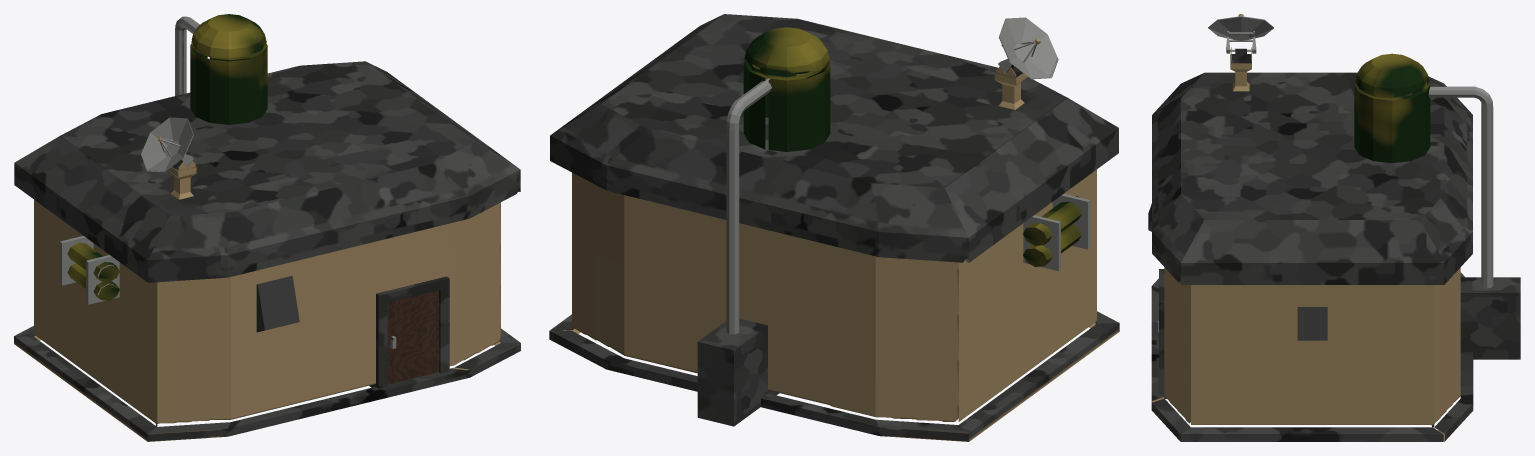
The model's file is Edificio9Map.fbx.
3 renders of one model, left to right at view 1: azimuth 30°, elevation 25°; view 2: azimuth 150°, elevation 25°; view 3: azimuth 270°, elevation 25°, orthographic. The views are drawn at different scales.
Visible parts, largest first — view 1: LOD_0; view 2: LOD_0; view 3: LOD_0.
Boxes of the visible parts, box(x1,y1,x2,y2) form: LOD_0: box(14, 14, 520, 441); LOD_0: box(549, 14, 1119, 441); LOD_0: box(1148, 14, 1520, 441).
Size of what is drawn, in the model's own units: 972 by 701 by 815.
